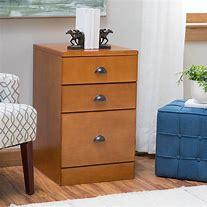cabinet_door: (62, 112, 134, 165), (62, 84, 135, 111), (63, 57, 135, 82), (62, 165, 135, 182)
handle: (93, 133, 106, 146), (94, 93, 106, 104), (95, 66, 106, 76)
